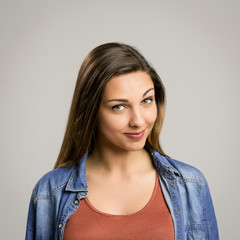teen: (82, 41, 166, 148)
